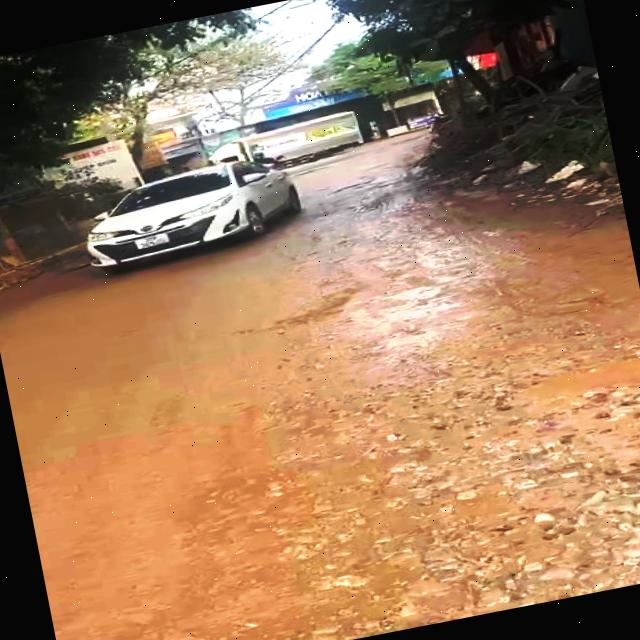pothole: (473, 340, 640, 607)
